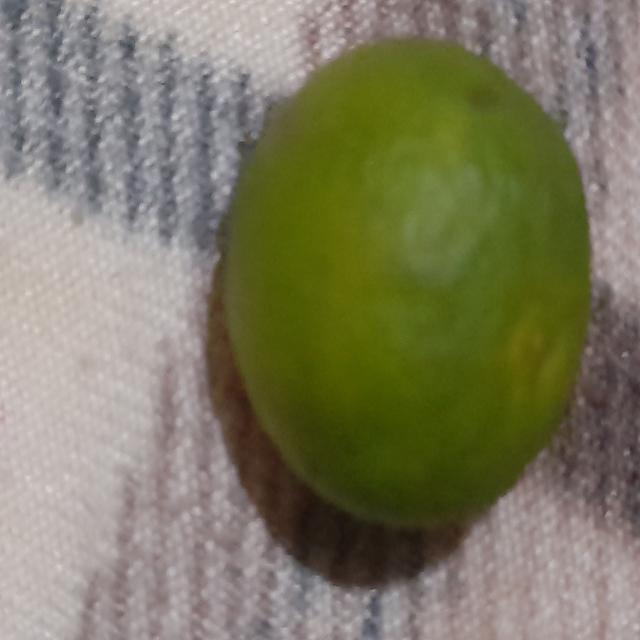heathy: (222, 27, 601, 554)
